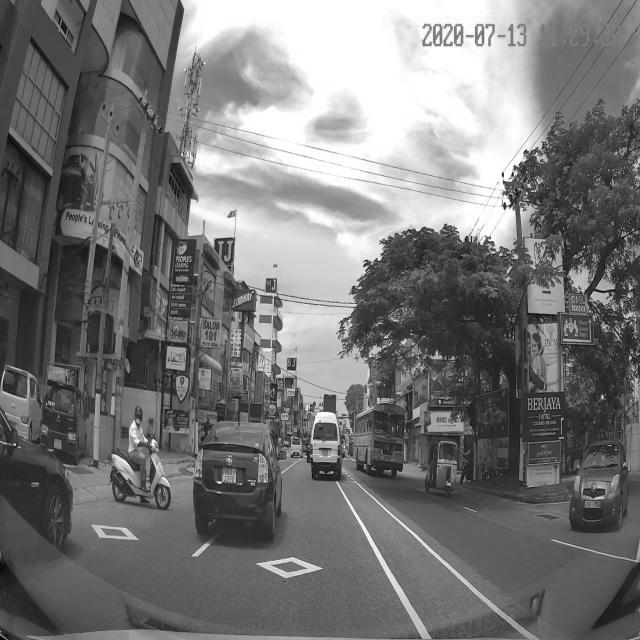diamond: (161, 541, 416, 604)
